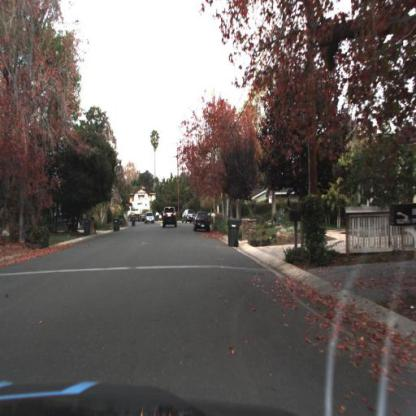car: (159, 204, 179, 229), (193, 211, 211, 232), (184, 210, 195, 224), (144, 214, 155, 226)
